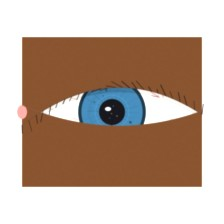pterygium_lesion: (22, 92, 72, 132)
